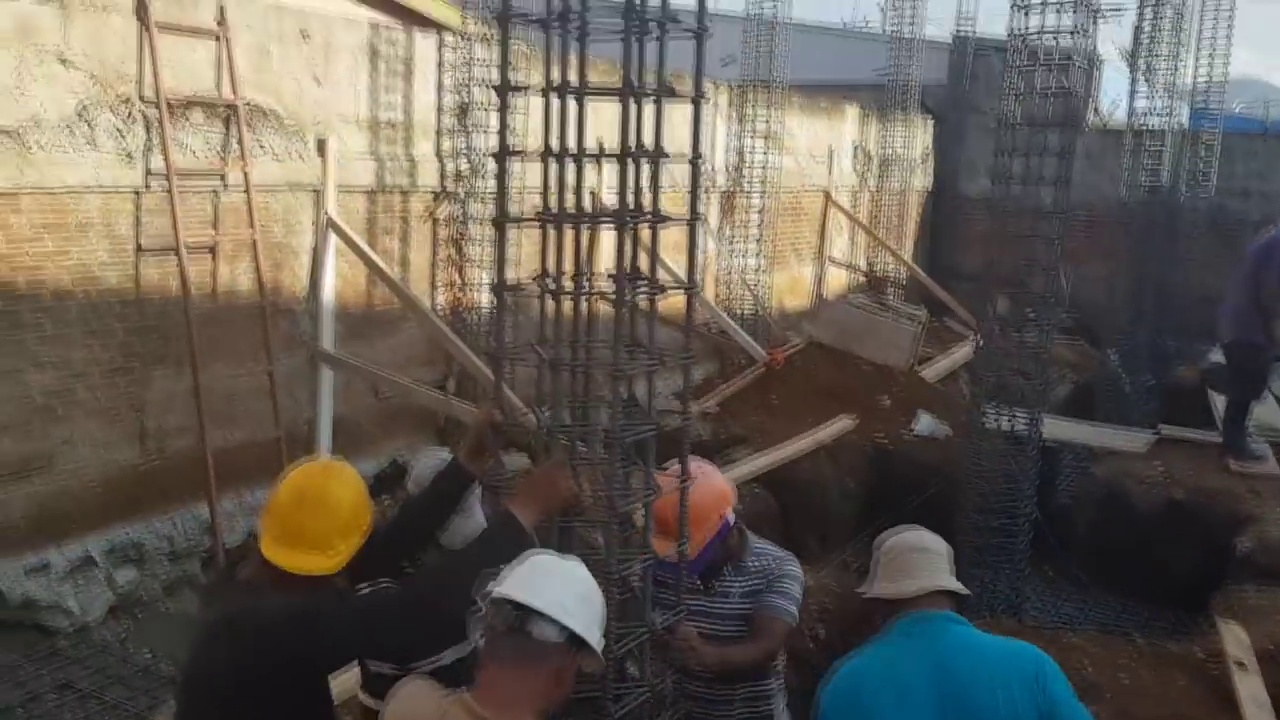helmet: (256, 461, 376, 582), (484, 562, 607, 673), (650, 453, 737, 561)
helmet-off: (853, 530, 976, 643)
helmet-on: (226, 441, 378, 617), (468, 550, 614, 719), (645, 442, 754, 603)
person: (179, 409, 445, 706), (824, 531, 1091, 720), (635, 439, 795, 707), (379, 544, 612, 719), (1204, 214, 1272, 477)
